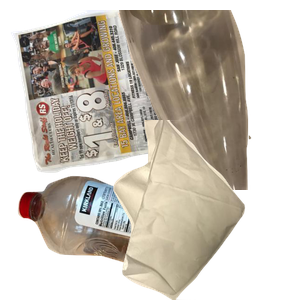glass: (115, 10, 300, 190)
paper: (10, 10, 210, 175)
plastic: (15, 173, 222, 300)
trash: (111, 120, 300, 300)
